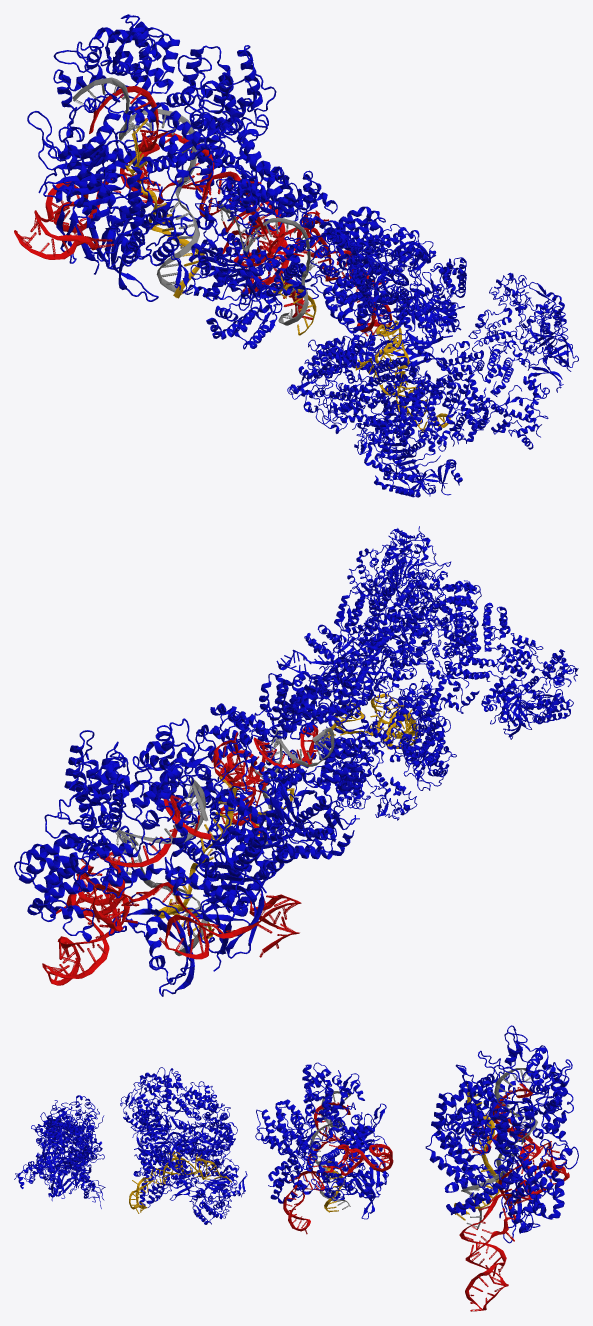
Rendered from CRISPR9_proc.glb.
The picture shows the model from 3 angles, top to bottom: view 1: azimuth 30°, elevation 25°; view 2: azimuth 150°, elevation 25°; view 3: azimuth 270°, elevation 25°; orthographic projection. The views are drawn at different scales.
Parts seen in each view (by area): view 1: cas9_RNA_step4, cas9_RNA_step3, cas9_RNA_step2, cas9_step1; view 2: cas9_RNA_step4, cas9_RNA_step2, cas9_RNA_step3, cas9_step1; view 3: cas9_RNA_step4, cas9_RNA_step3, cas9_RNA_step2, cas9_step1.
Boxes of the visible parts, bbox=[...] form: cas9_RNA_step4: bbox=[14, 14, 312, 319]; cas9_RNA_step3: bbox=[171, 164, 392, 349]; cas9_RNA_step2: bbox=[287, 224, 466, 442]; cas9_step1: bbox=[352, 272, 578, 497]; cas9_RNA_step4: bbox=[14, 718, 301, 996]; cas9_RNA_step2: bbox=[276, 573, 456, 820]; cas9_RNA_step3: bbox=[196, 673, 367, 859]; cas9_step1: bbox=[347, 526, 578, 739]; cas9_RNA_step4: bbox=[425, 1025, 578, 1311]; cas9_RNA_step3: bbox=[255, 1062, 393, 1234]; cas9_RNA_step2: bbox=[120, 1067, 247, 1224]; cas9_step1: bbox=[14, 1095, 105, 1208].
Size of the model in its own units: 1.89 by 2.13 by 4.8.
